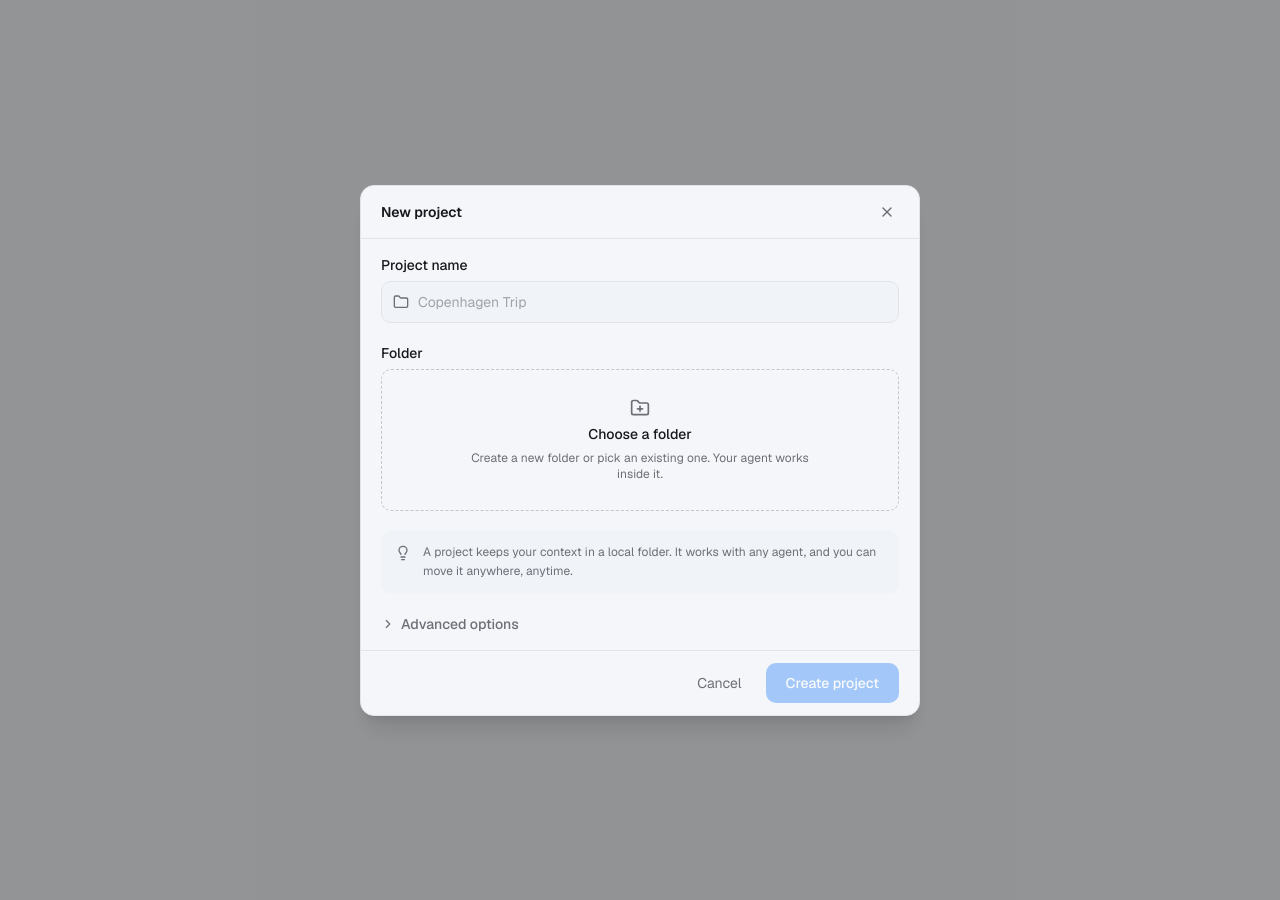
Scenario: CreateProject — name and folder are separate fields › "Change" reopens the browser for an already-picked folder
The image size is (1280, 900).
Step 1. Click the text "Choose a folder" → (640, 434), box [588,424,692,444]
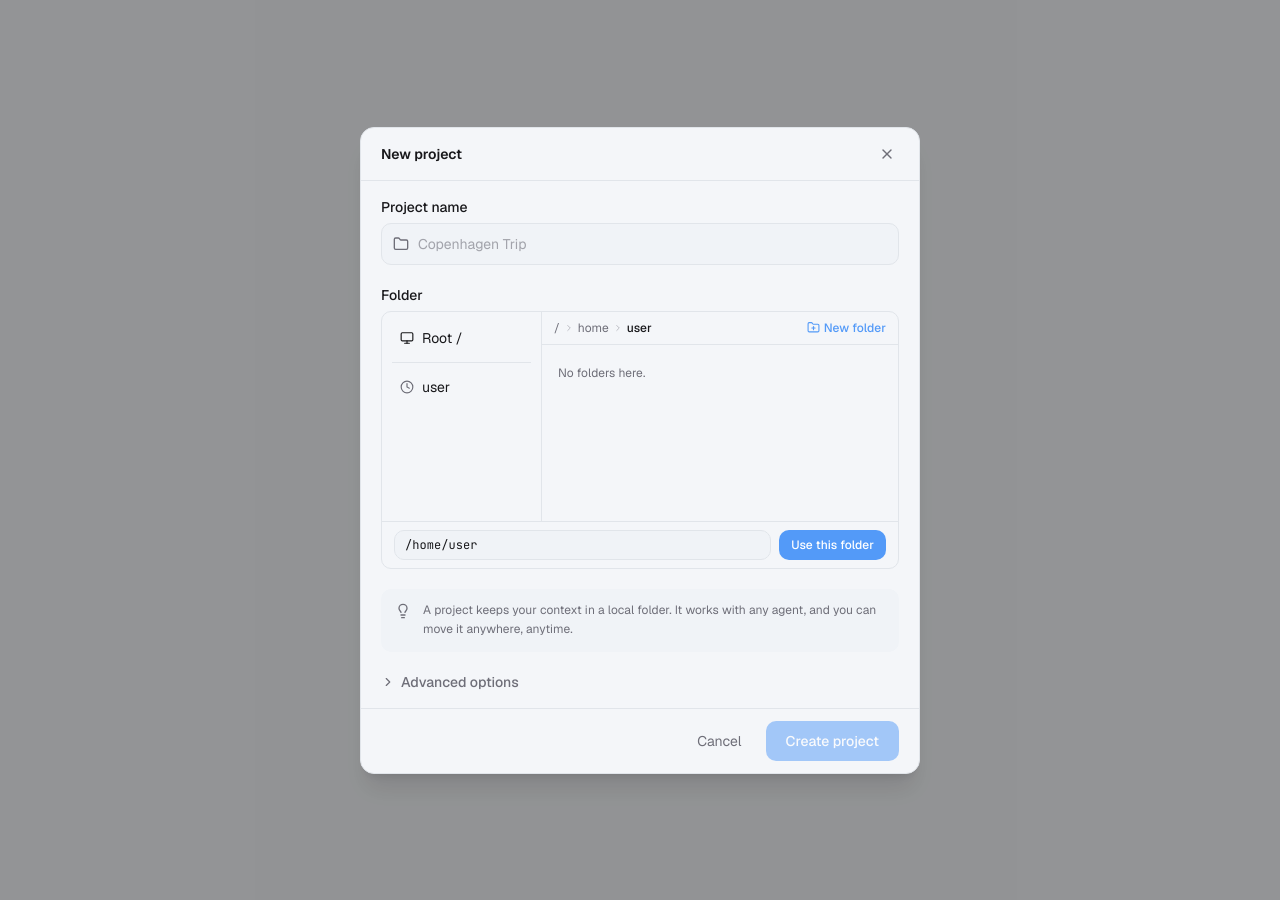
expect the button "New folder" is enabled: met, box [807,320,886,336]
Step 2. Click the button "Use this folder" → (833, 544), box [779,530,886,560]
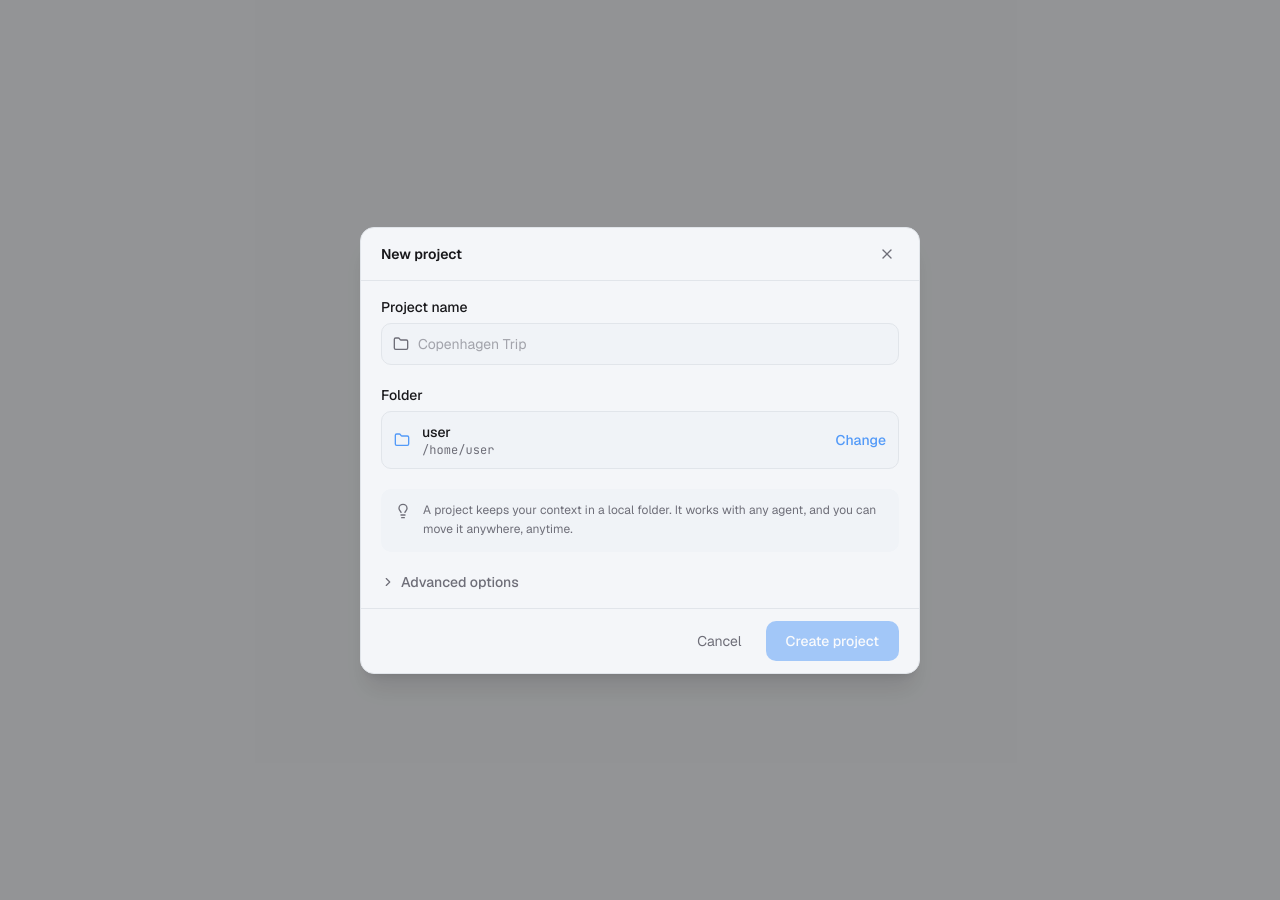
Step 3. Click the button "Change" → (861, 440), box [836,430,886,450]
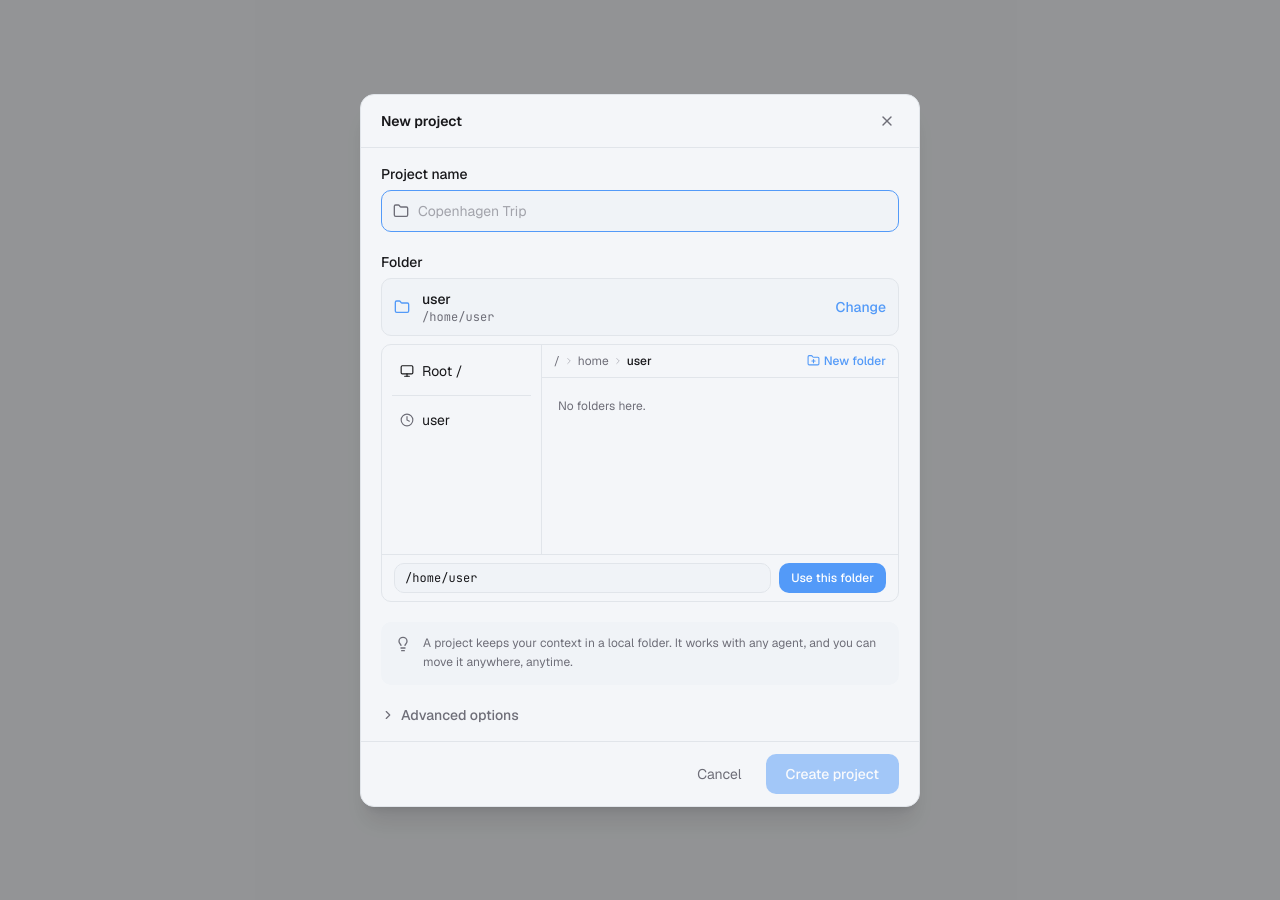
expect the button "New folder" is enabled: met, box [807,352,886,368]
expect the button "Use this folder" is shown: met, box [779,562,886,592]
